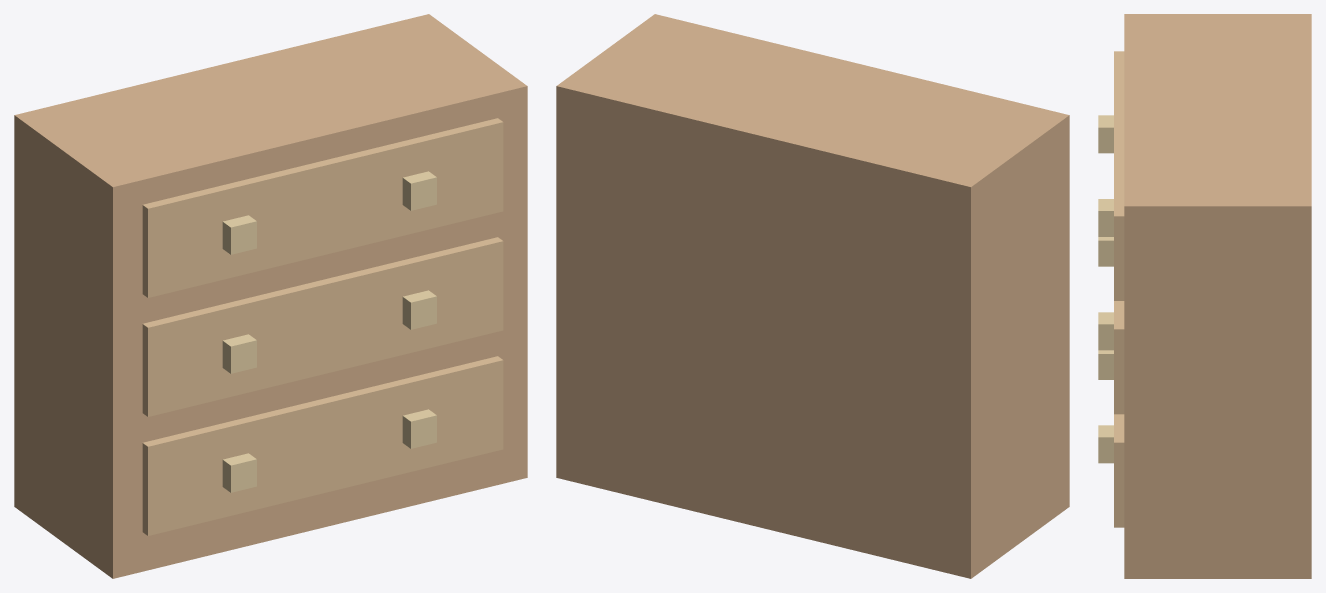
File: dresser.glb
3 views of the same model, side by side, from view 1: azimuth 30°, elevation 25°; view 2: azimuth 150°, elevation 25°; view 3: azimuth 270°, elevation 25° (orthographic). The views are drawn at different scales.
Visible parts, largest first — view 1: dresser-body, drawer-2, drawer-1, drawer-0, knob-0-0, knob-0-1, knob-1-0, knob-1-1, knob-2-0, knob-2-1; view 2: dresser-body; view 3: dresser-body, drawer-2, drawer-0, drawer-1, knob-0-1, knob-1-1, knob-2-0, knob-2-1, knob-0-0, knob-1-0.
Boxes of the visible parts, left/top/right/bottom form: dresser-body: left=14, top=14, right=527, bottom=578; drawer-2: left=142, top=118, right=503, bottom=297; drawer-1: left=142, top=237, right=503, bottom=416; drawer-0: left=142, top=356, right=503, bottom=535; knob-0-0: left=222, top=453, right=256, bottom=492; knob-0-1: left=402, top=409, right=436, bottom=448; knob-1-0: left=222, top=334, right=256, bottom=373; knob-1-1: left=402, top=290, right=436, bottom=329; knob-2-0: left=222, top=215, right=256, bottom=254; knob-2-1: left=402, top=171, right=436, bottom=210; dresser-body: left=556, top=14, right=1069, bottom=578; dresser-body: left=1124, top=14, right=1311, bottom=578; drawer-2: left=1114, top=51, right=1124, bottom=300; drawer-0: left=1114, top=414, right=1124, bottom=527; drawer-1: left=1114, top=301, right=1124, bottom=414; knob-0-1: left=1098, top=425, right=1113, bottom=463; knob-1-1: left=1098, top=312, right=1113, bottom=350; knob-2-0: left=1098, top=115, right=1113, bottom=153; knob-2-1: left=1098, top=199, right=1113, bottom=236; knob-0-0: left=1098, top=350, right=1113, bottom=379; knob-1-0: left=1098, top=237, right=1113, bottom=266.
Bounding box in the file's own units: 1.75 × 1.58 × 0.82.
